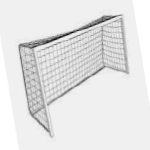goals: (18, 12, 133, 139)
